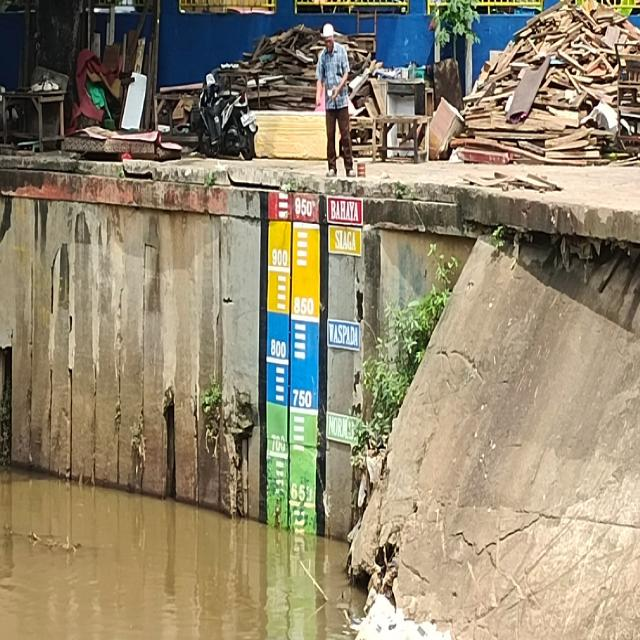staff: (264, 185, 322, 541)
